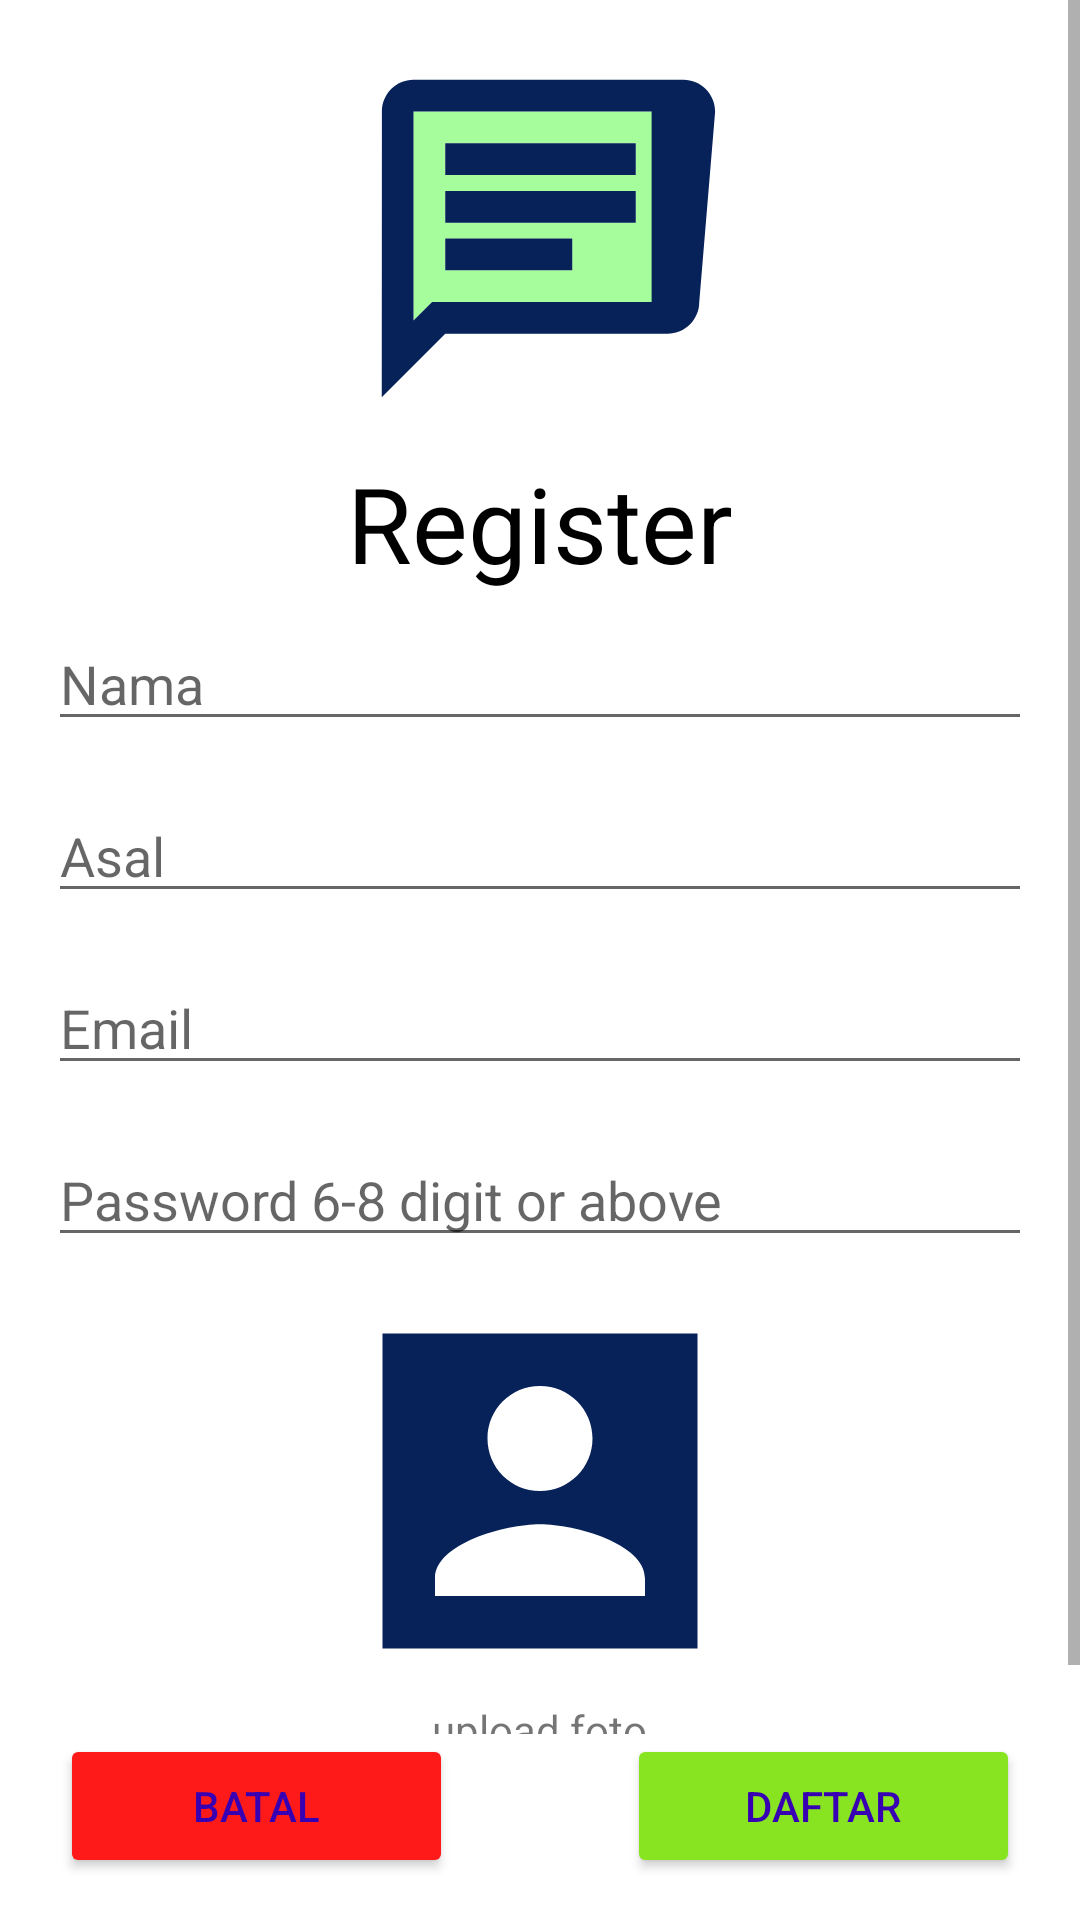

Icons on this 1080×1920 Android screen, each with the point to tap as point (x, y):
chat: point (548, 238)
